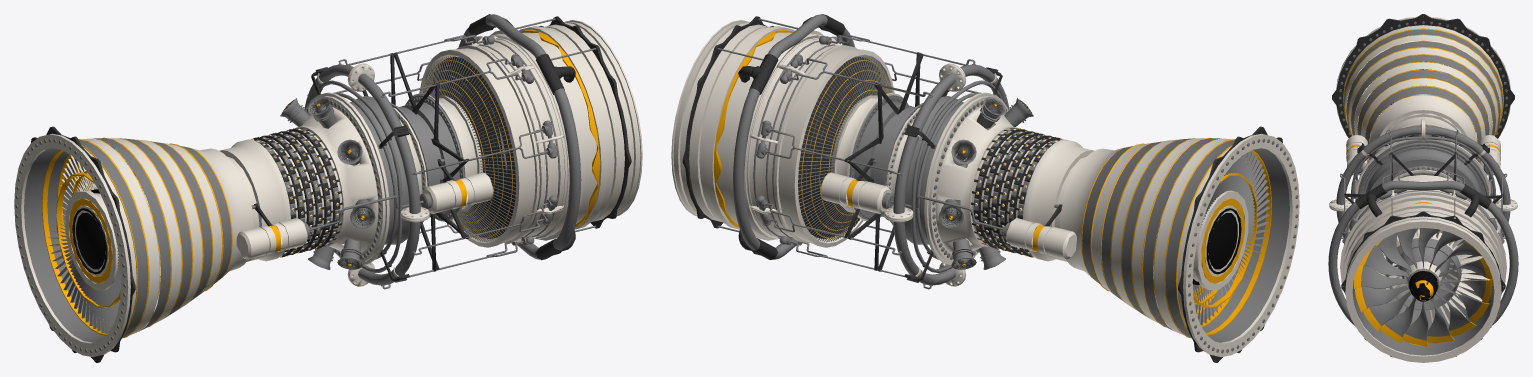
Rendered from turbofan.glb.
The picture shows the model from 3 angles, left to right: view 1: azimuth 30°, elevation 25°; view 2: azimuth 150°, elevation 25°; view 3: azimuth 270°, elevation 25°; orthographic projection. The views are drawn at different scales.
Parts seen in each view (by area): view 1: Object_9, Object_18, Object_17, Object_12, Object_5, Object_4, Object_16, Object_8, Object_13, Object_15, Object_3, Object_2 (+6 smaller); view 2: Object_9, Object_18, Object_17, Object_12, Object_5, Object_4, Object_16, Object_8, Object_13, Object_15, Object_3, Object_2 (+6 smaller); view 3: Object_9, Object_18, Object_17, Object_15, Object_12, Object_4, Object_5, Object_8, Object_3, Object_2, Object_20, Object_14 (+1 smaller).
Part boxes in pixels (x1=…): Object_9: x1=14, y1=20, x2=642, y2=356; Object_18: x1=24, y1=97, x2=375, y2=342; Object_17: x1=304, y1=14, x2=581, y2=289; Object_12: x1=31, y1=14, x2=631, y2=362; Object_5: x1=42, y1=29, x2=600, y2=337; Object_4: x1=349, y1=95, x2=464, y2=247; Object_16: x1=251, y1=18, x2=596, y2=242; Object_8: x1=60, y1=148, x2=493, y2=311; Object_13: x1=251, y1=128, x2=342, y2=257; Object_15: x1=48, y1=216, x2=121, y2=333; Object_3: x1=72, y1=189, x2=107, y2=274; Object_2: x1=317, y1=36, x2=563, y2=286; Object_9: x1=671, y1=20, x2=1299, y2=356; Object_18: x1=938, y1=97, x2=1289, y2=342; Object_17: x1=733, y1=14, x2=1009, y2=289; Object_12: x1=682, y1=14, x2=1282, y2=362; Object_5: x1=713, y1=29, x2=1271, y2=337; Object_4: x1=849, y1=95, x2=963, y2=247; Object_16: x1=717, y1=18, x2=1061, y2=242; Object_8: x1=820, y1=148, x2=1246, y2=325; Object_13: x1=971, y1=128, x2=1063, y2=257; Object_15: x1=1196, y1=151, x2=1269, y2=280; Object_3: x1=1156, y1=208, x2=1241, y2=284; Object_2: x1=750, y1=36, x2=996, y2=286; Object_9: x1=1336, y1=17, x2=1510, y2=362; Object_18: x1=1343, y1=29, x2=1503, y2=355; Object_17: x1=1328, y1=126, x2=1518, y2=325; Object_15: x1=1361, y1=228, x2=1486, y2=340; Object_12: x1=1332, y1=14, x2=1514, y2=357; Object_4: x1=1357, y1=139, x2=1489, y2=310; Object_5: x1=1343, y1=28, x2=1503, y2=347; Object_8: x1=1346, y1=61, x2=1500, y2=324; Object_3: x1=1391, y1=102, x2=1437, y2=301; Object_2: x1=1329, y1=118, x2=1517, y2=233; Object_20: x1=1339, y1=21, x2=1507, y2=195; Object_14: x1=1342, y1=189, x2=1504, y2=243.
Bounding box in the file's own units: 4.01 × 1.57 × 1.59.
